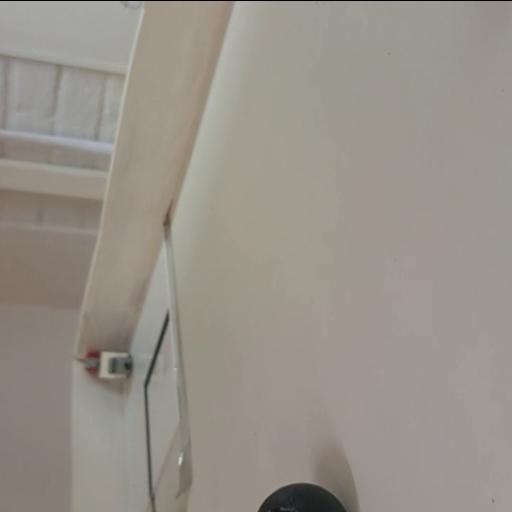dead: (257, 482, 352, 512)
